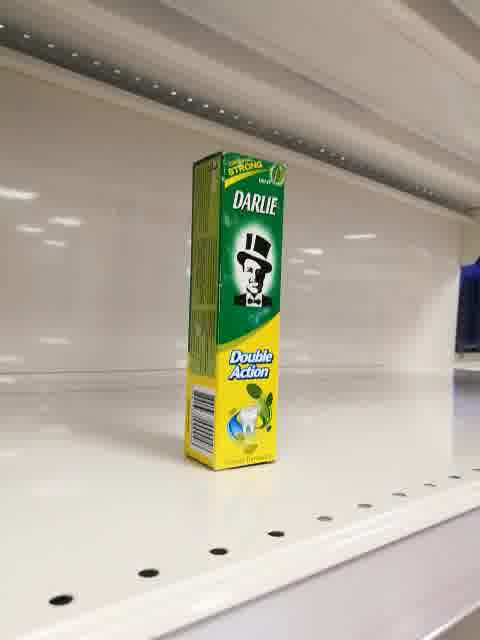toothpaste: (184, 149, 290, 472)
